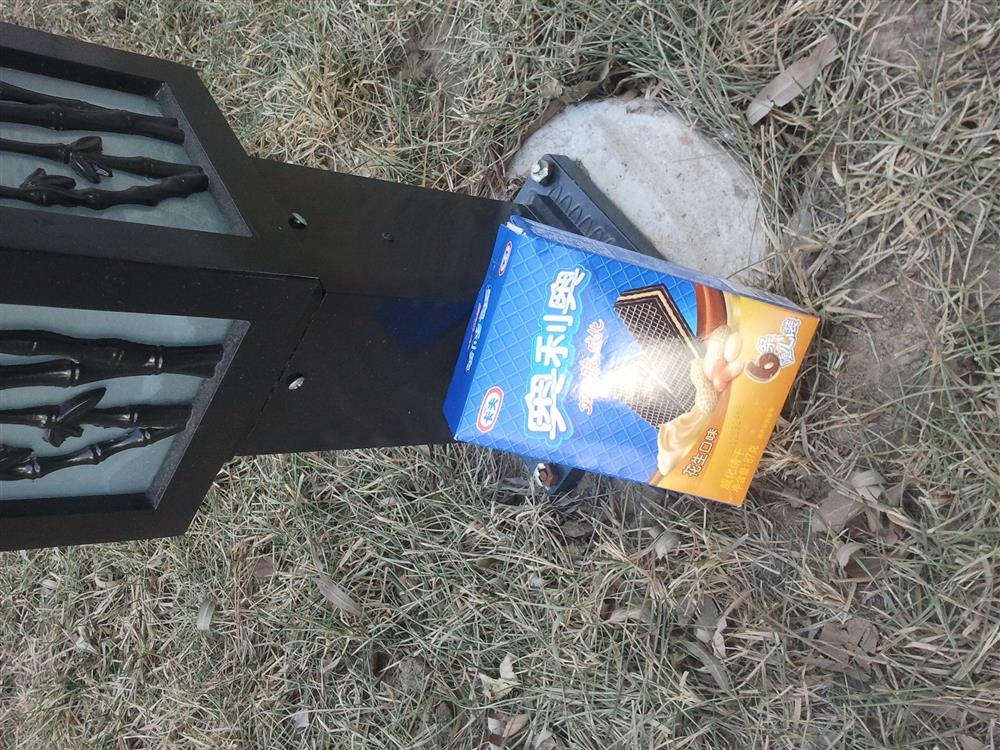Oreo_cookies: (442, 217, 816, 505)
